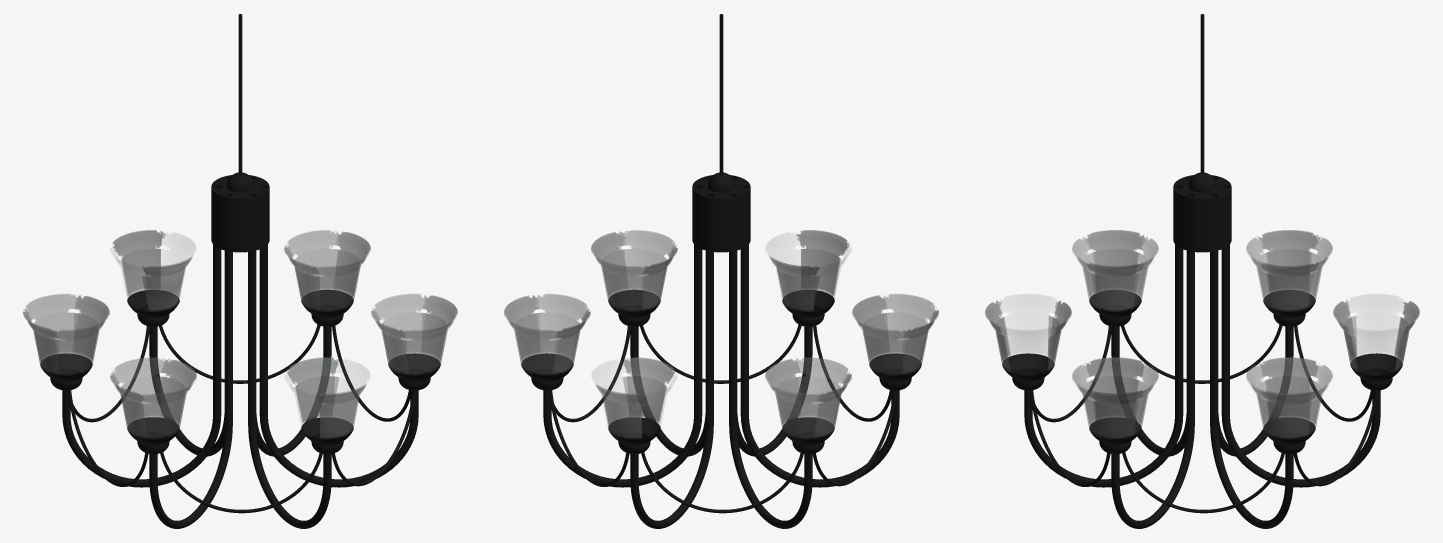
The model's file is lamp.gltf.
3 renders of one model, left to right at view 1: azimuth 30°, elevation 25°; view 2: azimuth 150°, elevation 25°; view 3: azimuth 270°, elevation 25°, orthographic.
Parts seen in each view (by area): view 1: black low gloss plastic, glass sandblasted 01_clonedChild, glass sandblasted 01; view 2: black low gloss plastic, glass sandblasted 01_clonedChild, glass sandblasted 01; view 3: black low gloss plastic, glass sandblasted 01_clonedChild, glass sandblasted 01.
Part boxes in pixels (x1,y1,x2,y2): black low gloss plastic: (40,14,440,528); glass sandblasted 01_clonedChild: (23,230,457,438); glass sandblasted 01: (23,231,457,437); black low gloss plastic: (521,14,921,528); glass sandblasted 01_clonedChild: (504,230,938,438); glass sandblasted 01: (504,230,938,437); black low gloss plastic: (1002,14,1402,528); glass sandblasted 01_clonedChild: (985,230,1419,438); glass sandblasted 01: (985,231,1419,437).
Size of the model in its own units: 0.6953 by 0.8927 by 0.7751.
Materials: 2 (1 with a texture image).
